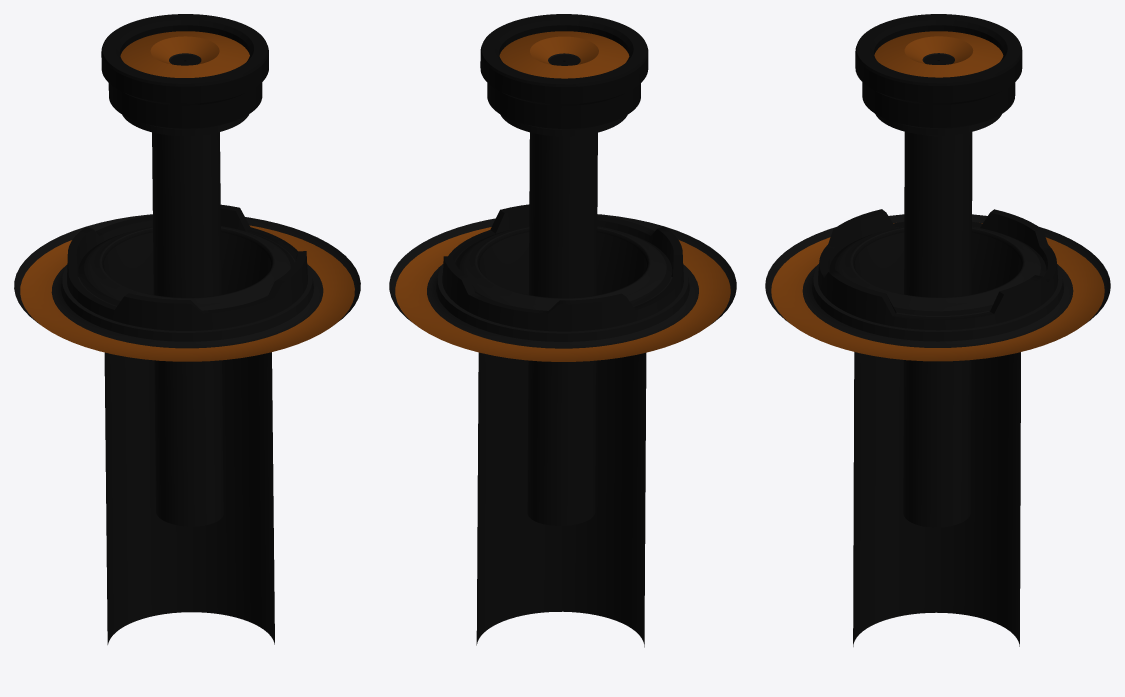
The model's file is Waterlock_Door_B.FBX.
3 views of the same model, side by side, from view 1: azimuth 30°, elevation 25°; view 2: azimuth 150°, elevation 25°; view 3: azimuth 270°, elevation 25° (orthographic).
Visible parts, largest first — view 1: Waterlock_Door_A; view 2: Waterlock_Door_A; view 3: Waterlock_Door_A.
Part boxes in pixels (x1,y1,x2,y2): Waterlock_Door_A: (14,14,360,644); Waterlock_Door_A: (389,14,736,647); Waterlock_Door_A: (765,14,1110,646).
Bounding box in the file's own units: 3.87 × 7.38 × 3.87.
